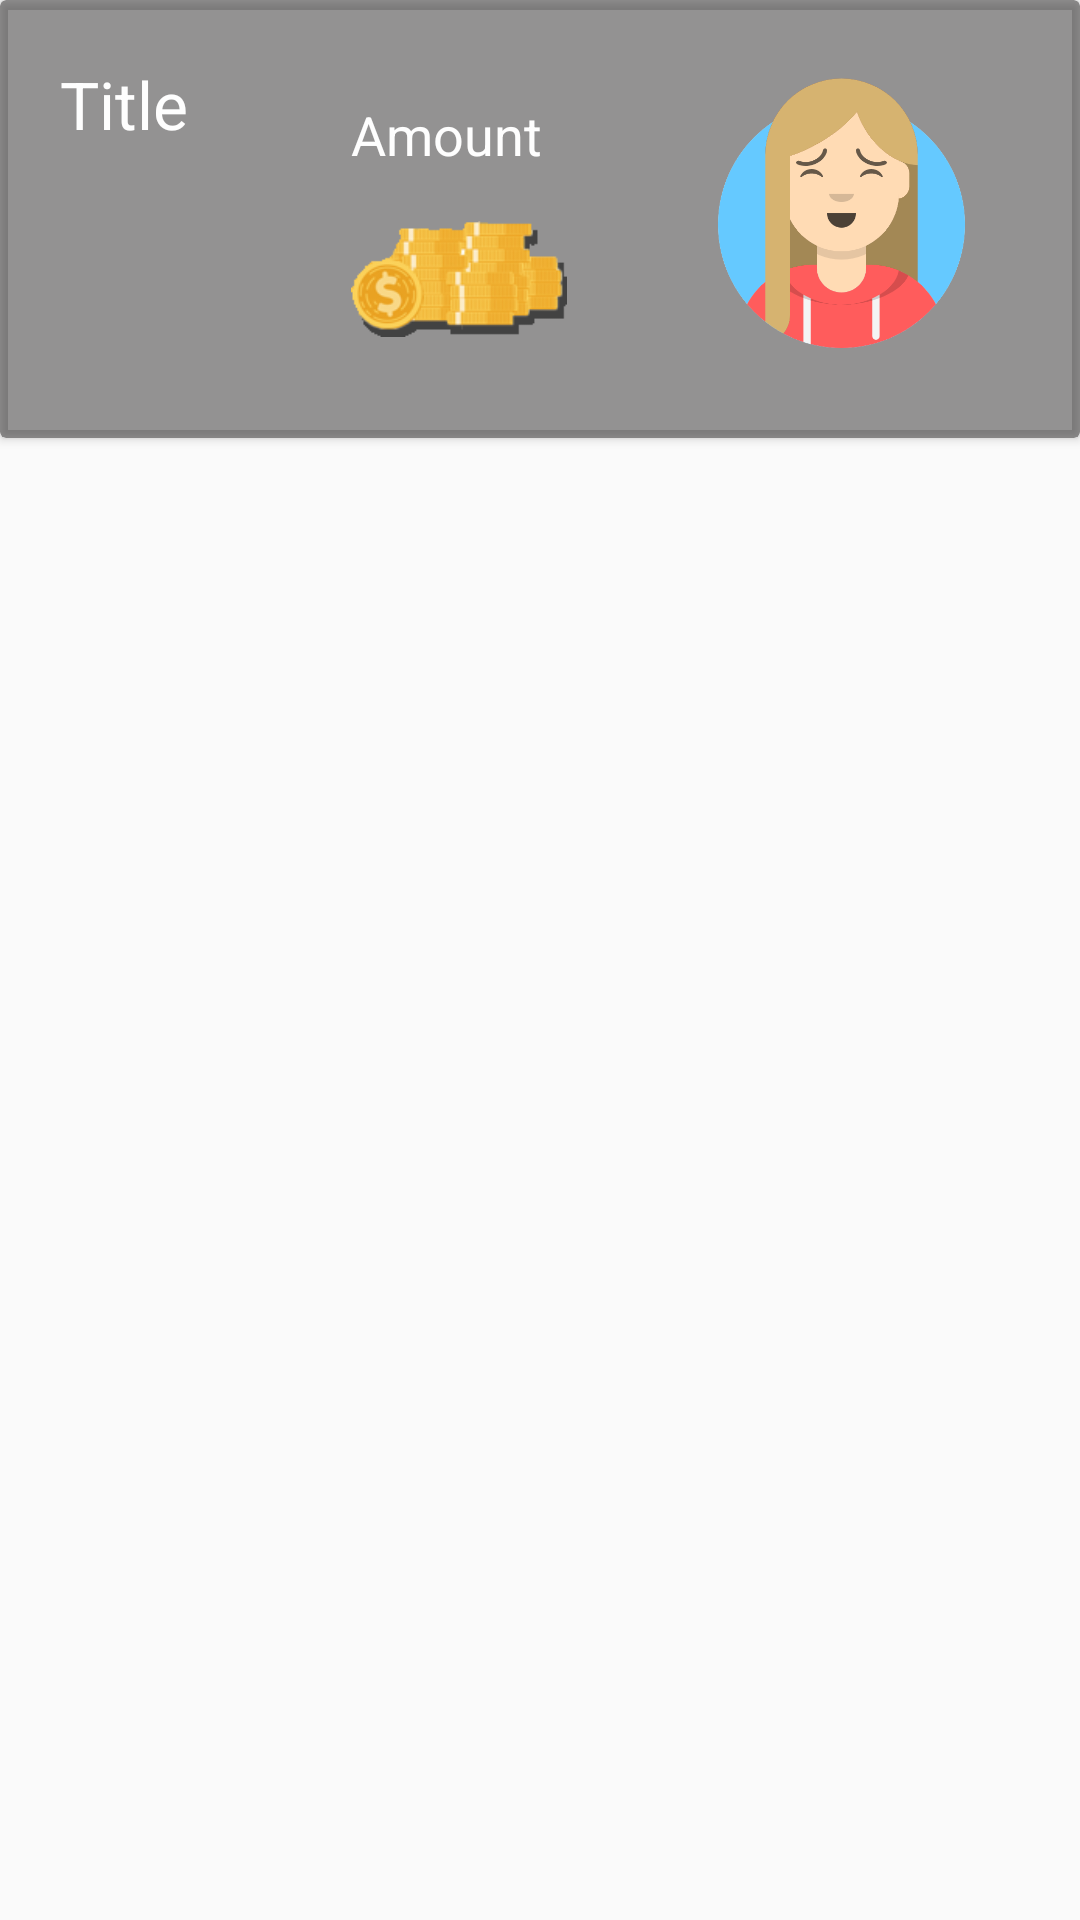

Icons on this 1080×1920 Android screen, each with its box as (x1, y1, x2, y2):
avataaars: (718, 78, 965, 348)
coins: (351, 221, 567, 337)
